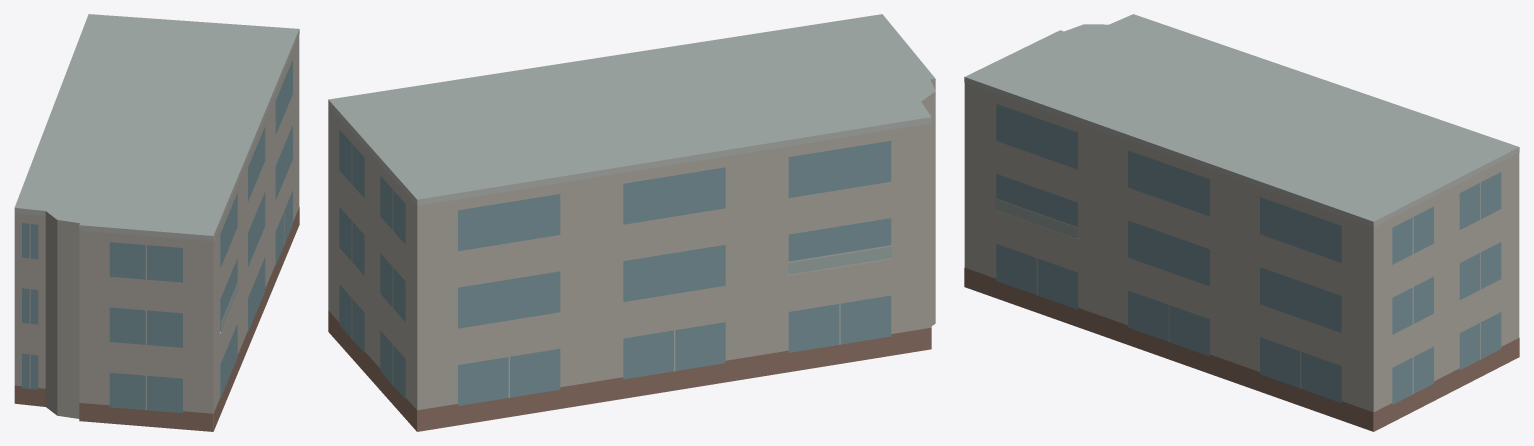
Rendered from survey-upis-32677950.glb.
3 views of the same model, side by side, from view 1: azimuth 30°, elevation 25°; view 2: azimuth 150°, elevation 25°; view 3: azimuth 270°, elevation 25° (orthographic). The views are drawn at different scales.
Parts seen in each view (by area): view 1: survey-upis-32677950.tmp; view 2: survey-upis-32677950.tmp; view 3: survey-upis-32677950.tmp.
Part boxes in pixels (x1,y1,x2,y2): survey-upis-32677950.tmp: (14, 14, 299, 431); survey-upis-32677950.tmp: (328, 14, 935, 431); survey-upis-32677950.tmp: (964, 14, 1519, 431).
Bounding box in the file's own units: 19.42 × 9.15 × 21.91.
